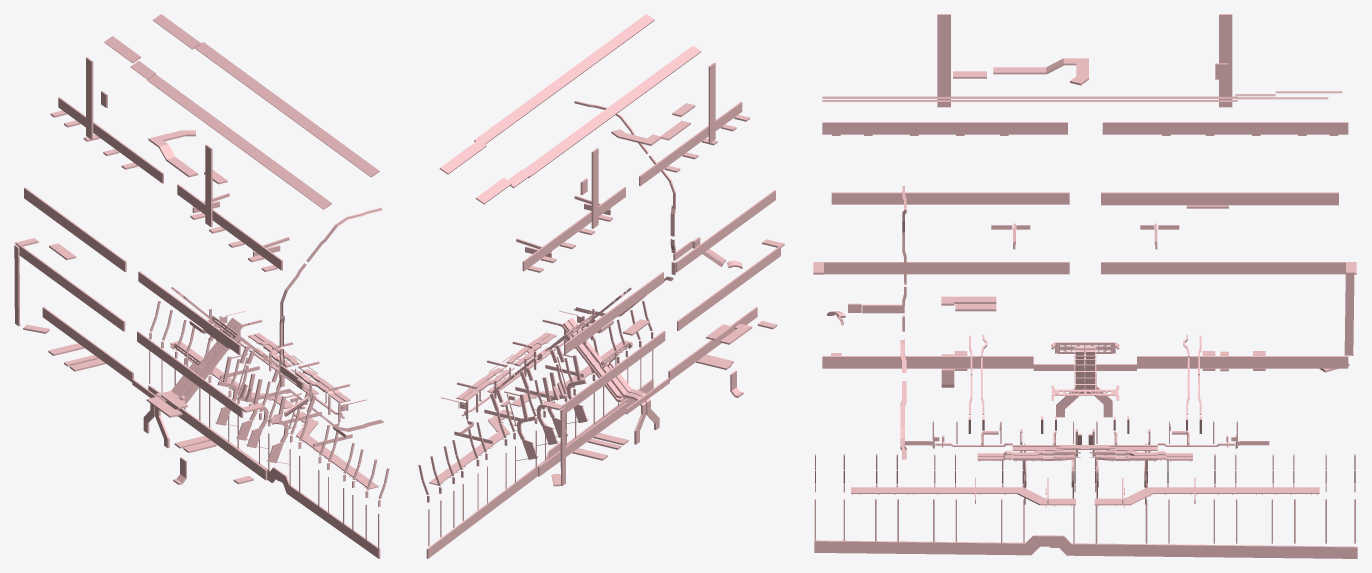
Rendered from Serv-Muon-Cable Trays-cut2.glb.
3 renders of one model, left to right at view 1: azimuth 30°, elevation 25°; view 2: azimuth 150°, elevation 25°; view 3: azimuth 270°, elevation 25°, orthographic. The views are drawn at different scales.
Visible parts, largest first — view 1: Cabble Trays-cut2; view 2: Cabble Trays-cut2; view 3: Cabble Trays-cut2.
Boxes of the visible parts, x1,y1,x2,y2 form: Cabble Trays-cut2: [14, 14, 389, 558]; Cabble Trays-cut2: [418, 14, 784, 558]; Cabble Trays-cut2: [813, 14, 1357, 558].
Size of the model in its own units: 12.67 by 24.92 by 25.76.
